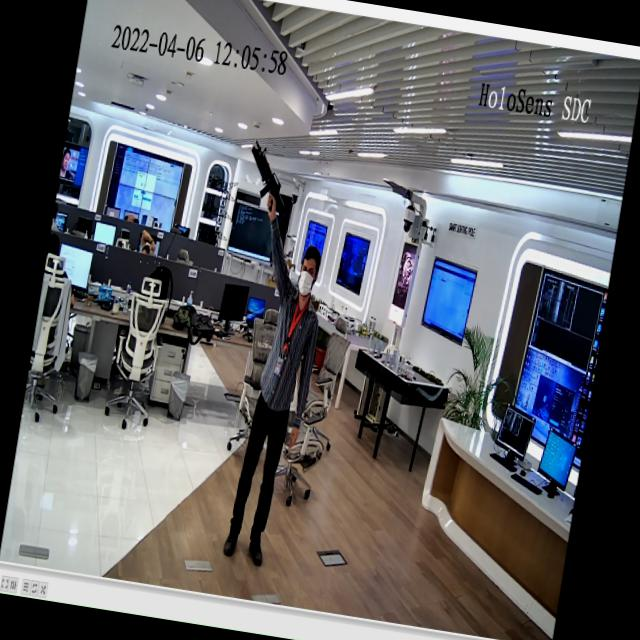long weapon: (238, 134, 298, 235)
